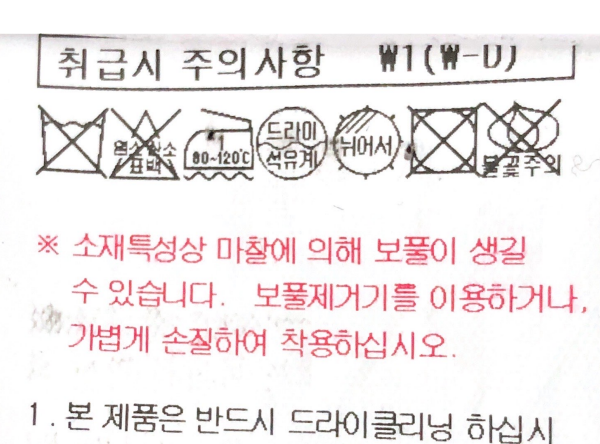KR_dry_clean_petroleum: (255, 102, 328, 181)
KR_flat_dry_in_shade: (329, 105, 406, 181)
KR_iron_low_temp_with_cloth: (180, 100, 255, 185)
KR_no_bleach: (109, 106, 180, 189)
KR_no_tumble_dry: (406, 101, 480, 177)
KR_no_wash: (31, 99, 109, 182)
